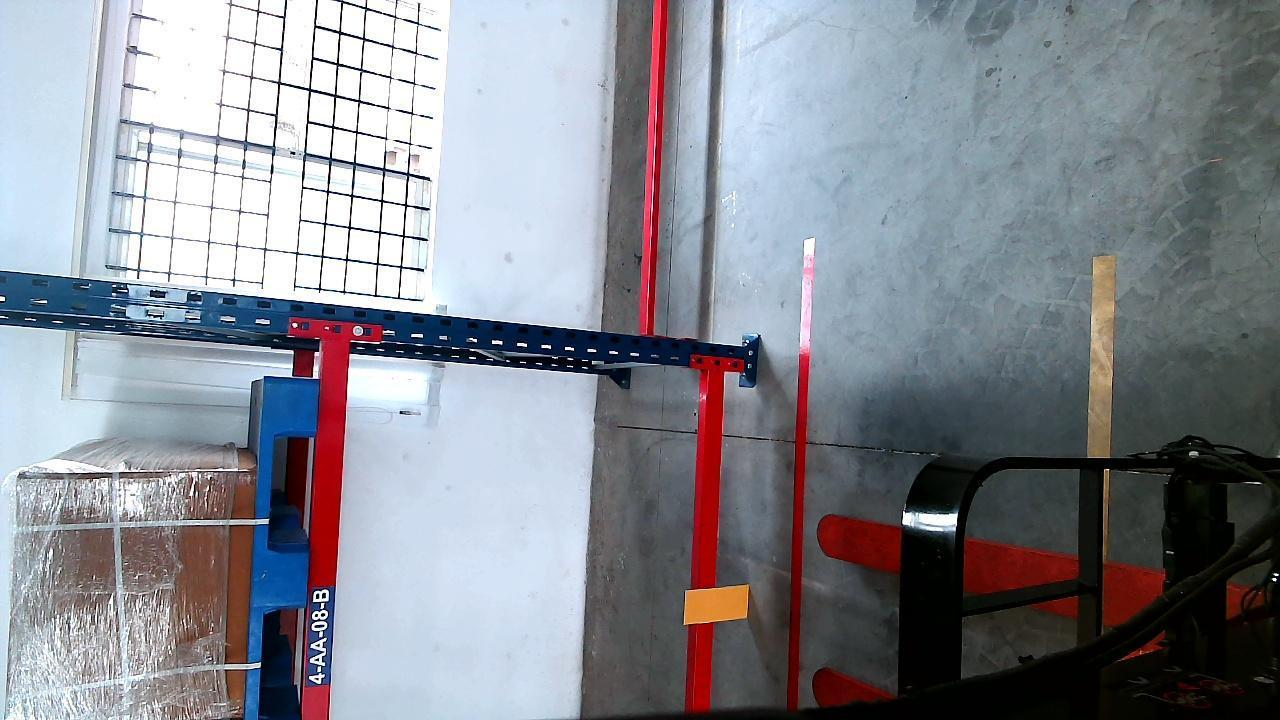h_rack: (304, 338, 352, 720), (691, 364, 724, 710)
orange_strip: (685, 585, 751, 623)
red_line: (784, 248, 815, 702)
small_pallet: (244, 375, 317, 720)
yellow_line: (1088, 251, 1114, 456)
